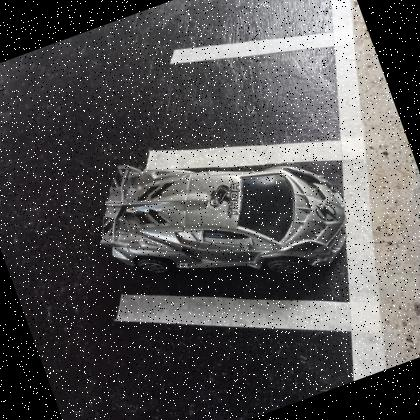Car: (102, 164, 347, 278)
